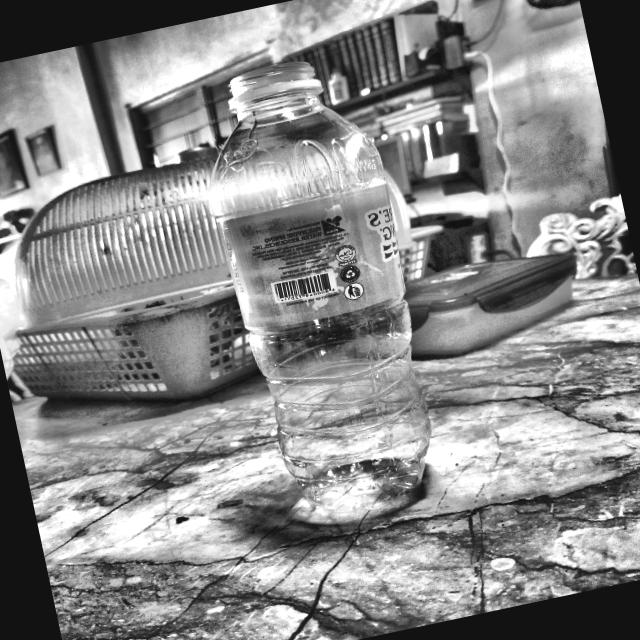Plastic-Bottle: (174, 37, 472, 543)
